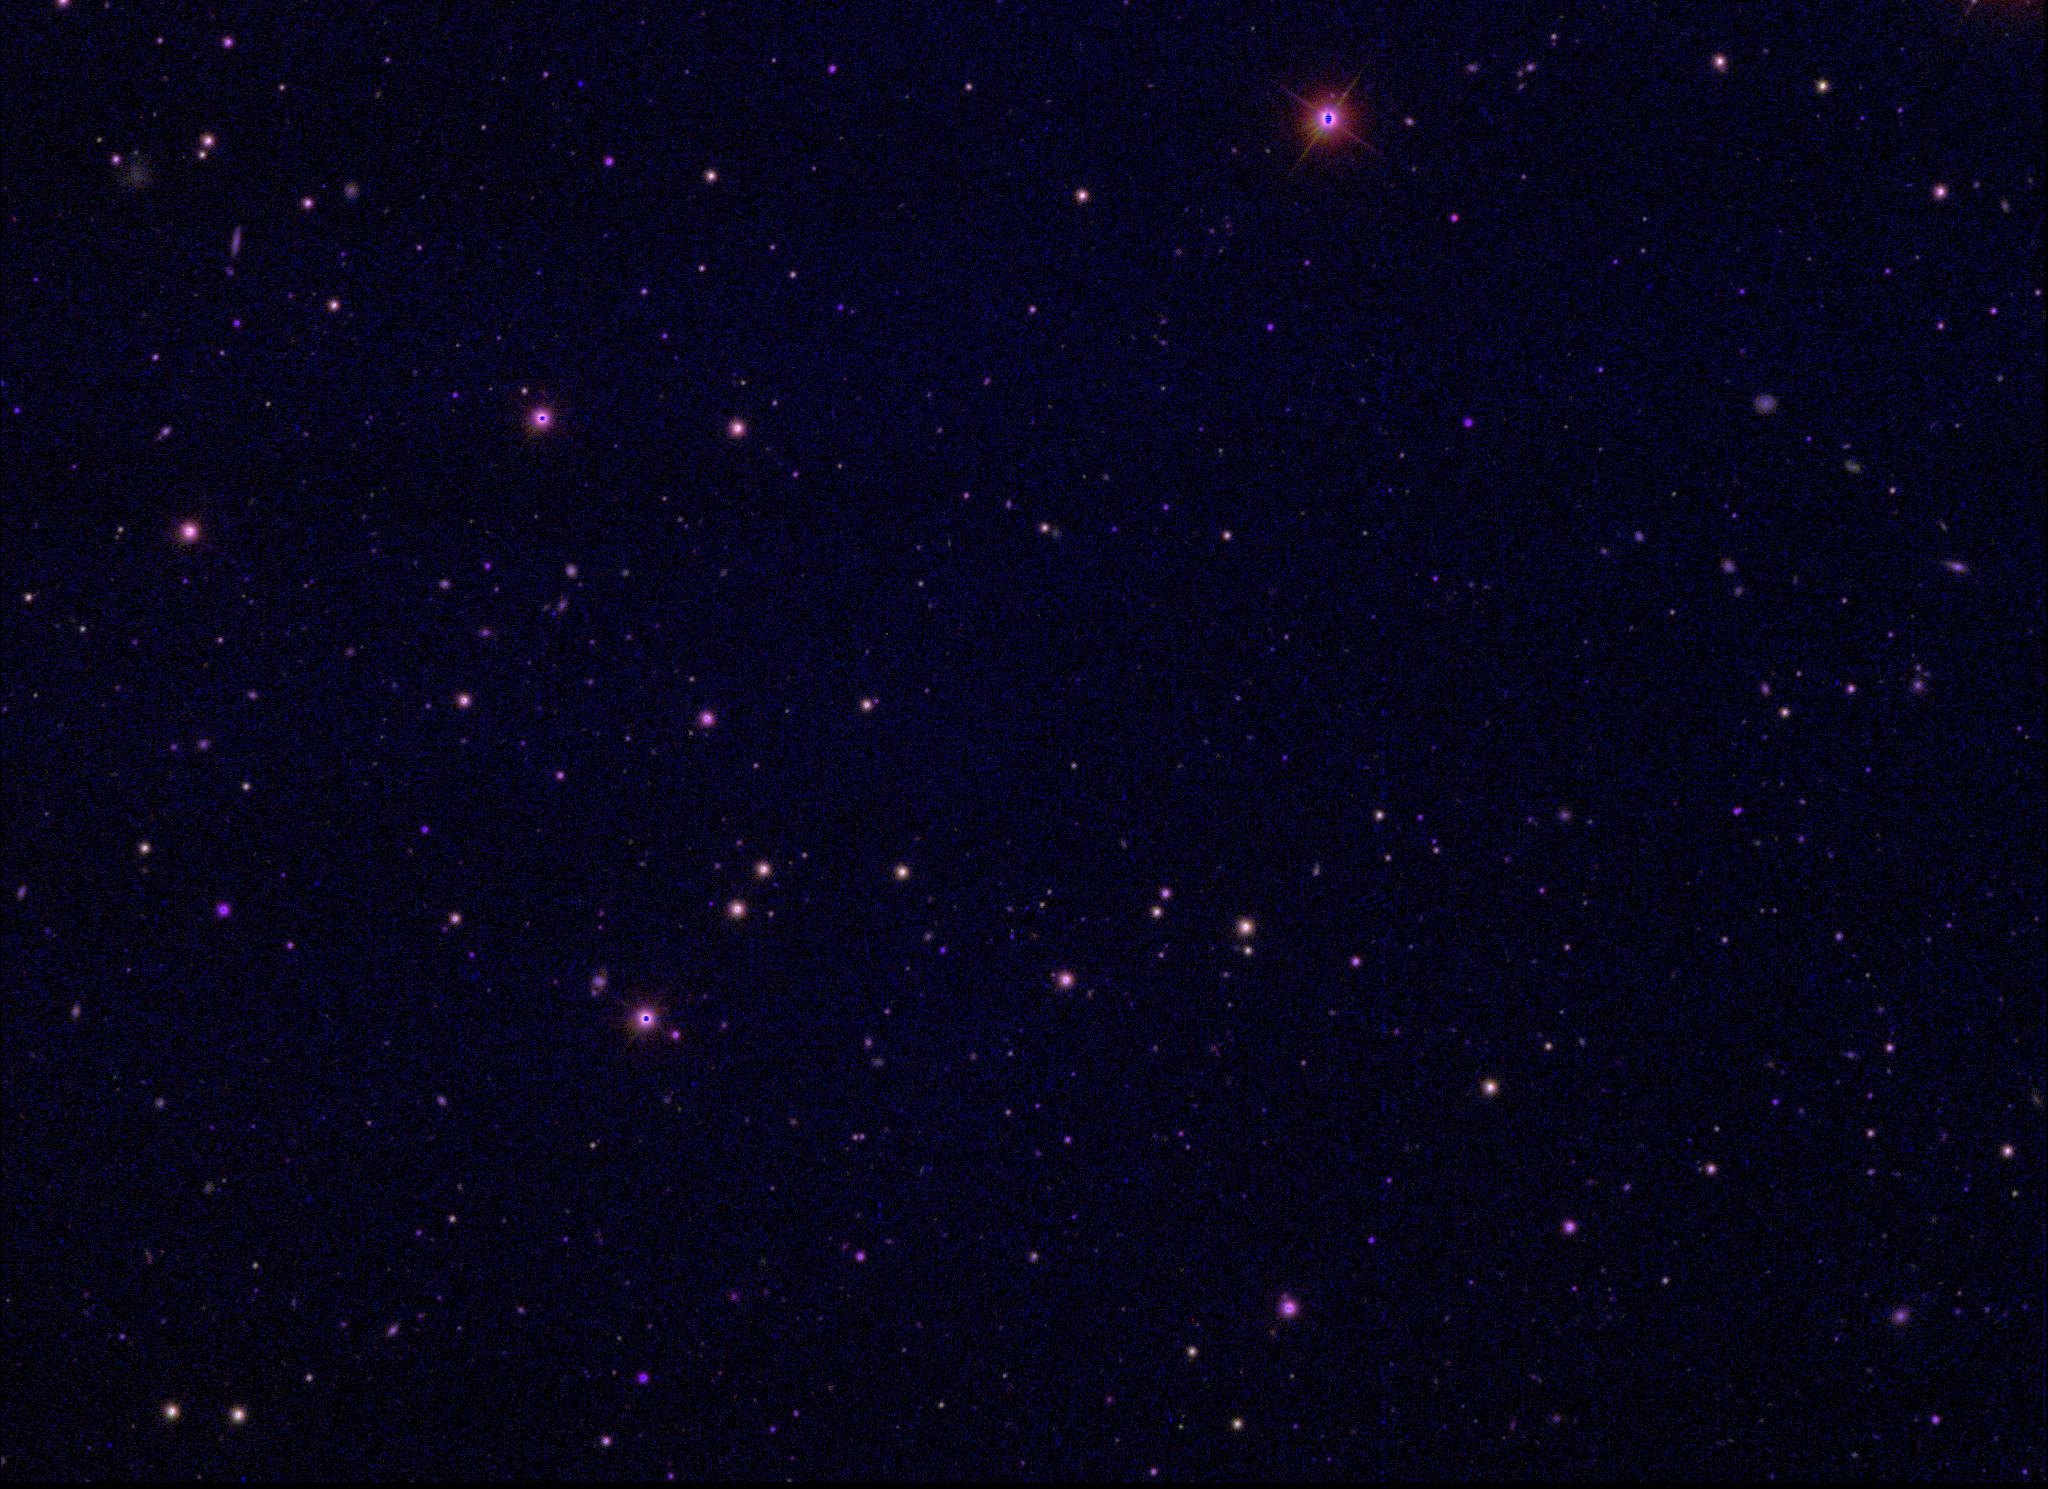L: (572, 76, 587, 91)
